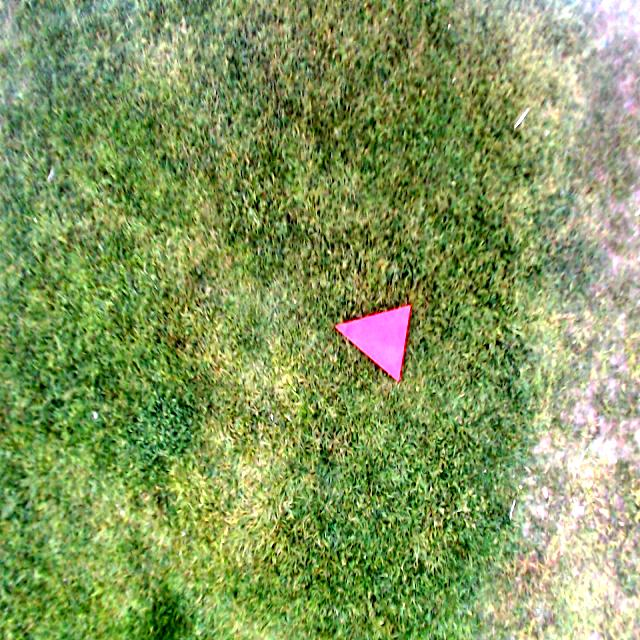red_triangle: (335, 303, 411, 382)
